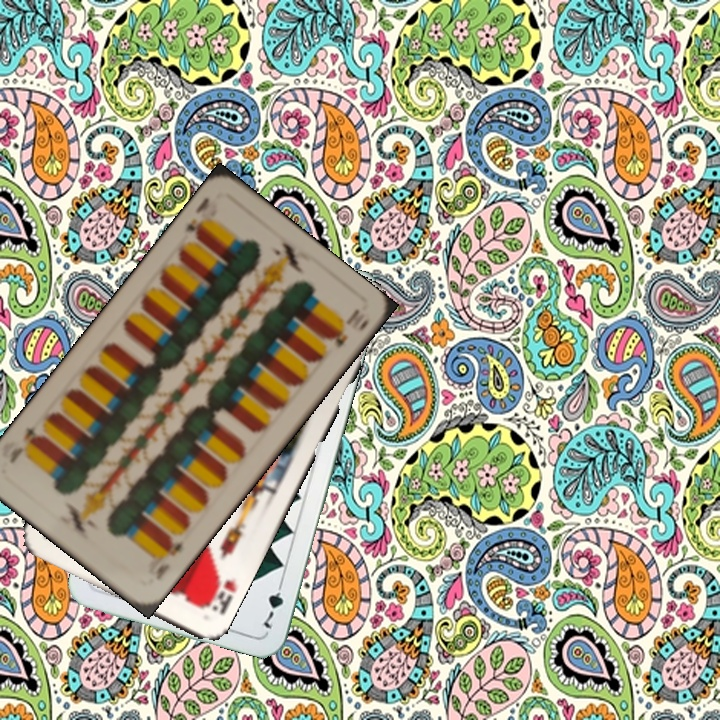E10: (151, 534, 186, 583), (180, 193, 212, 243)
G7: (259, 575, 286, 631)
HK: (199, 572, 239, 618)
